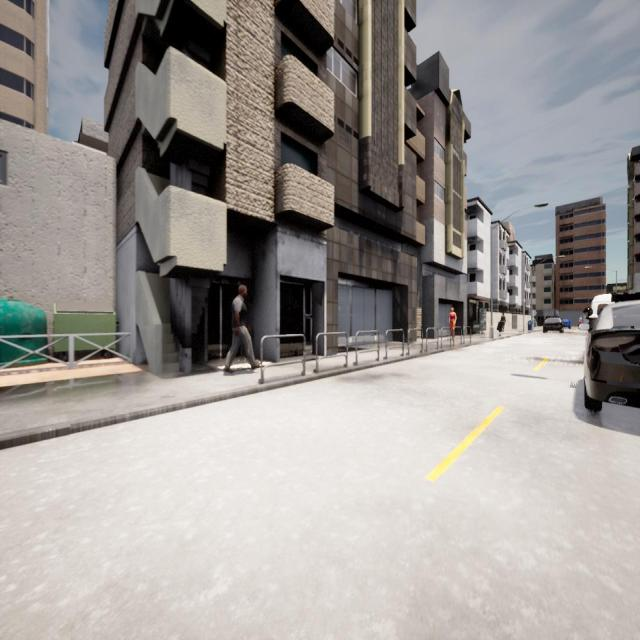Pedestrian: (224, 284, 260, 372), (448, 306, 457, 338), (500, 311, 506, 332), (578, 315, 583, 327)
Traffic_Signs: (532, 310, 536, 316)
Vehicle: (584, 292, 640, 410), (590, 293, 613, 330), (543, 315, 562, 334), (561, 318, 571, 328)
